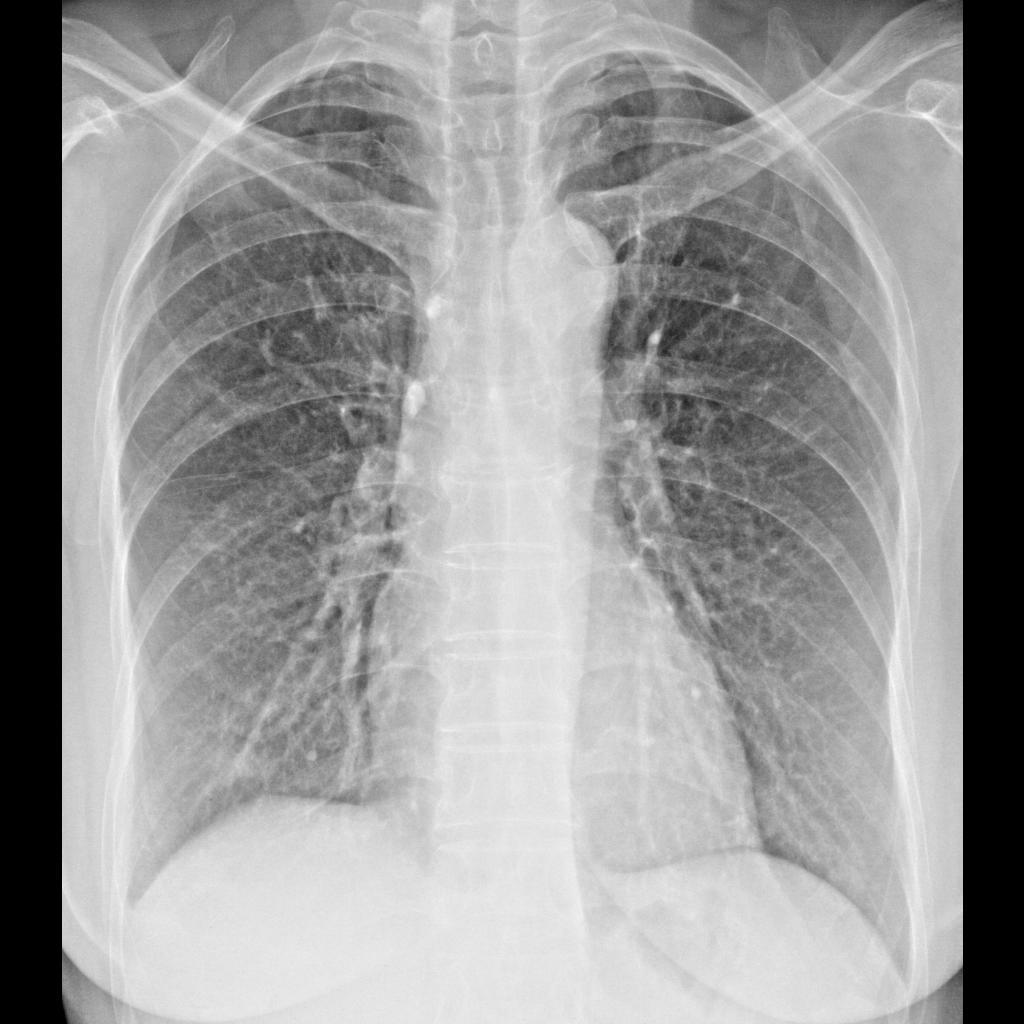Nodule: (194, 726, 268, 800)
